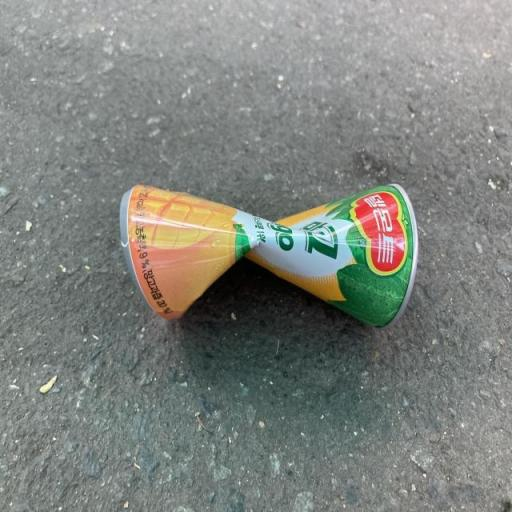metal: (84, 118, 473, 380)
